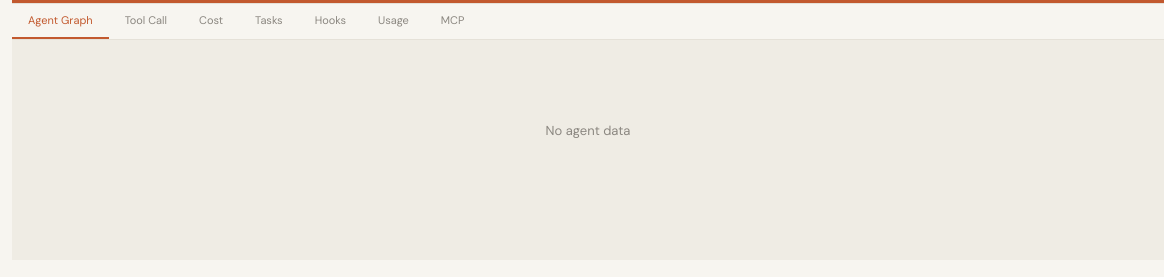
Test: BottomPanel › forwards stopReason and finishReasons to CostTab so OTel row renders
The image size is (1164, 277).
Cost tab is not default — click it
Click the button "Cost" at coordinates (211, 21), box 183,4 -> 239,38
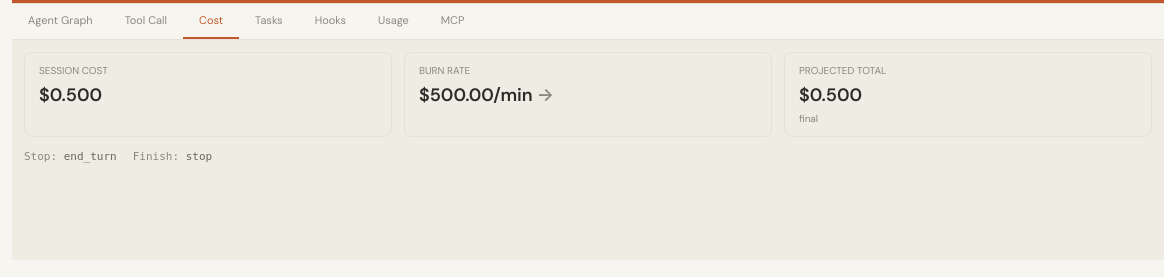
Check: the element with test id "otel-result-row" shows "Stop:", box 24,150 -> 64,162
Check: the element with test id "otel-result-row" shows "end_turn", box 64,150 -> 117,162
Check: the element with test id "otel-result-row" shows "Finish:", box 133,150 -> 179,162
